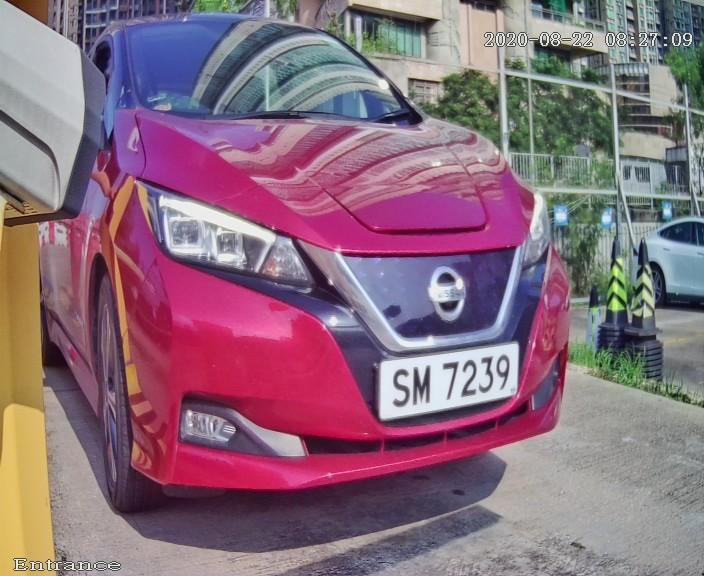Car: (35, 1, 623, 559)
License Plate: (370, 318, 531, 432)
